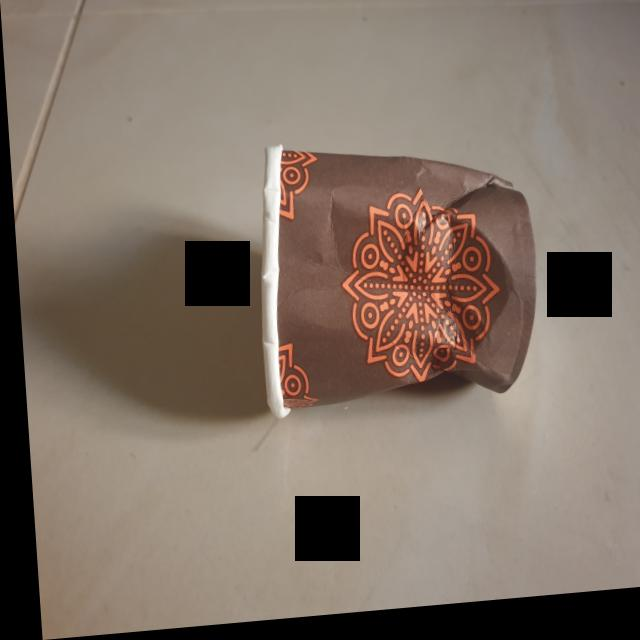cups: (237, 124, 543, 434)
